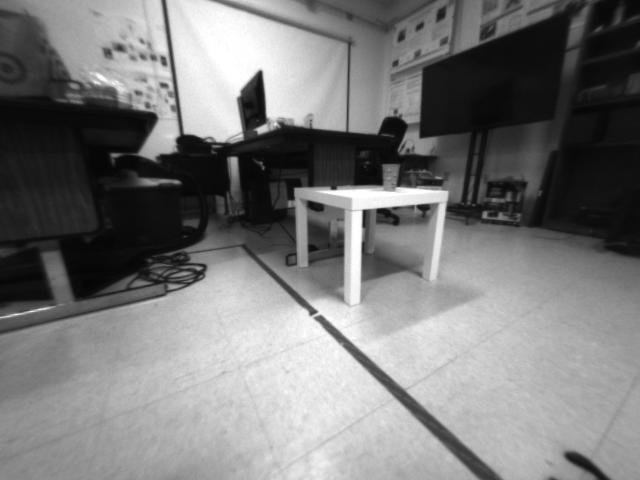coffee_cup: (378, 161, 400, 191)
